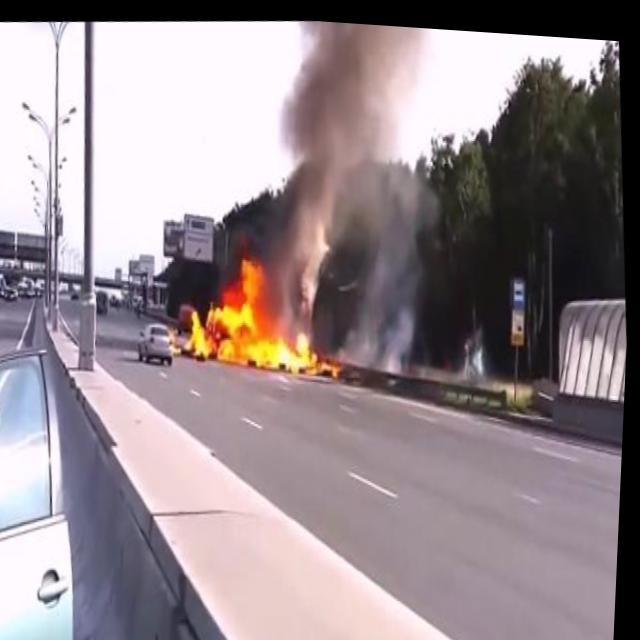fire: (181, 244, 351, 387)
